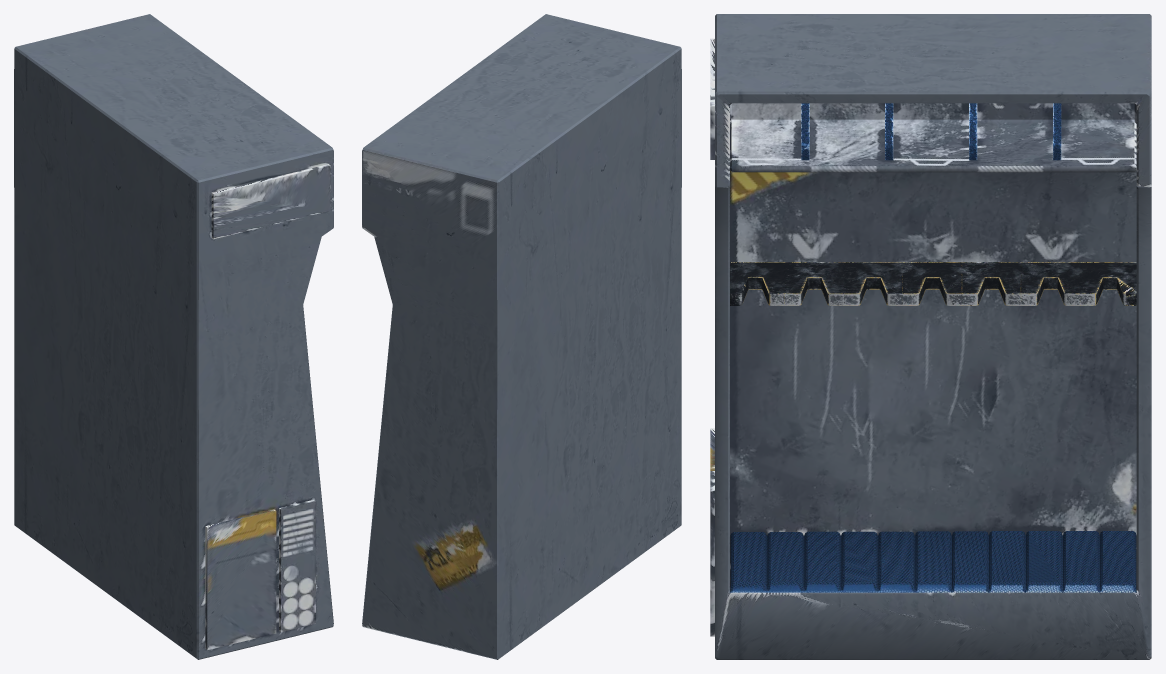
The model's file is weapon-rack.glb.
The picture shows the model from 3 angles, left to right: view 1: azimuth 30°, elevation 25°; view 2: azimuth 150°, elevation 25°; view 3: azimuth 270°, elevation 25°; orthographic projection. The views are drawn at different scales.
Visible parts, largest first — view 1: CAISSE _M_BASE_0; view 2: CAISSE _M_BASE_0; view 3: CAISSE _M_BASE_0, CAISSE _M_SOCLE_0, CAISSE _M_SUPPORT_0, CAISSE _M_ARMOIR_0.
Part boxes in pixels (x1,y1,x2,y2): CAISSE _M_BASE_0: (14,14,333,659); CAISSE _M_BASE_0: (362,14,681,659); CAISSE _M_BASE_0: (710,14,1151,659); CAISSE _M_SOCLE_0: (730,531,1136,592); CAISSE _M_SUPPORT_0: (730,262,1136,305); CAISSE _M_ARMOIR_0: (801,103,1061,160).
Bounding box in the file's own units: 1.6 × 5.33 × 3.76.
Materials: 5 (5 with a texture image).
